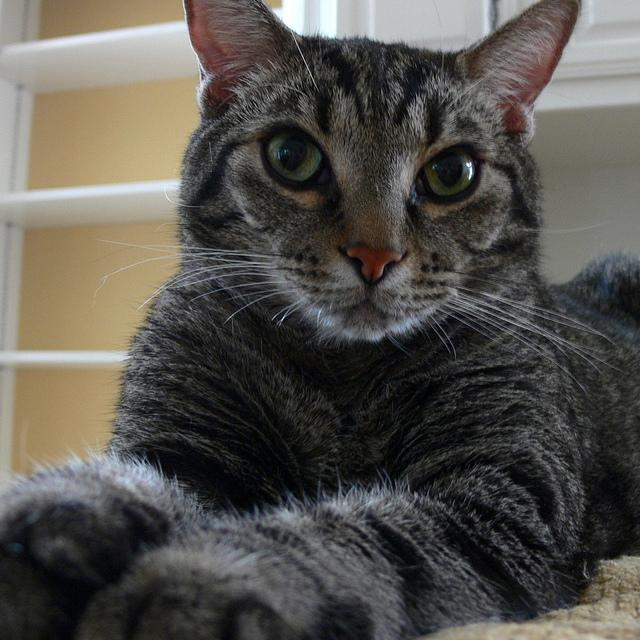animals: (195, 0, 574, 280)
